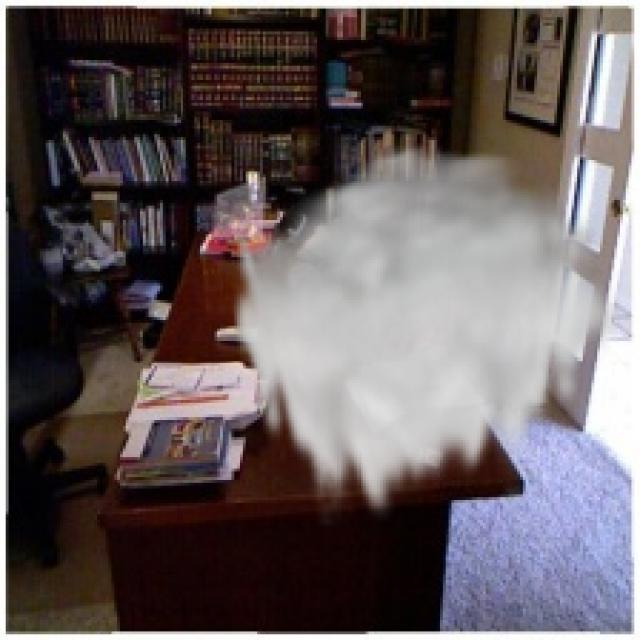Smoke: (228, 137, 620, 529)
